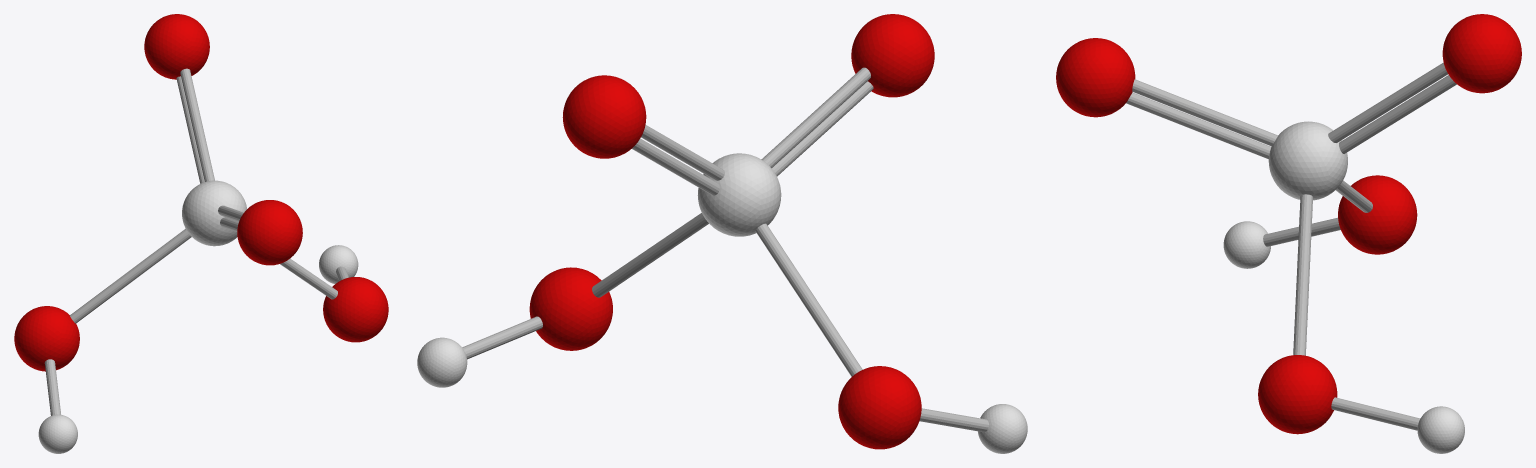
3 renders of one model, left to right at view 1: azimuth 30°, elevation 25°; view 2: azimuth 150°, elevation 25°; view 3: azimuth 270°, elevation 25°, orthographic. The views are drawn at different scales.
Parts seen in each view (by area): view 1: world; view 2: world; view 3: world.
Part boxes in pixels (x1,y1,x2,y2): world: [14, 14, 388, 453]; world: [417, 14, 1027, 453]; world: [1056, 14, 1521, 453].
Size of the model in its own units: 3.47 by 2.61 by 2.93.
